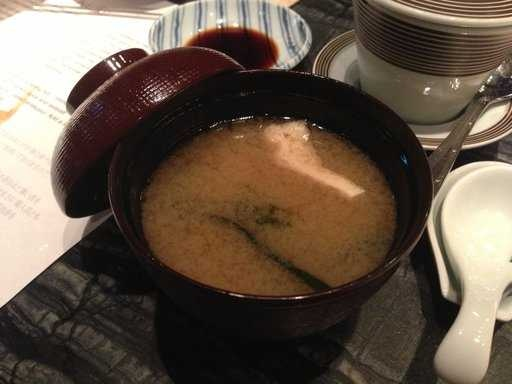soup: (145, 96, 404, 301)
